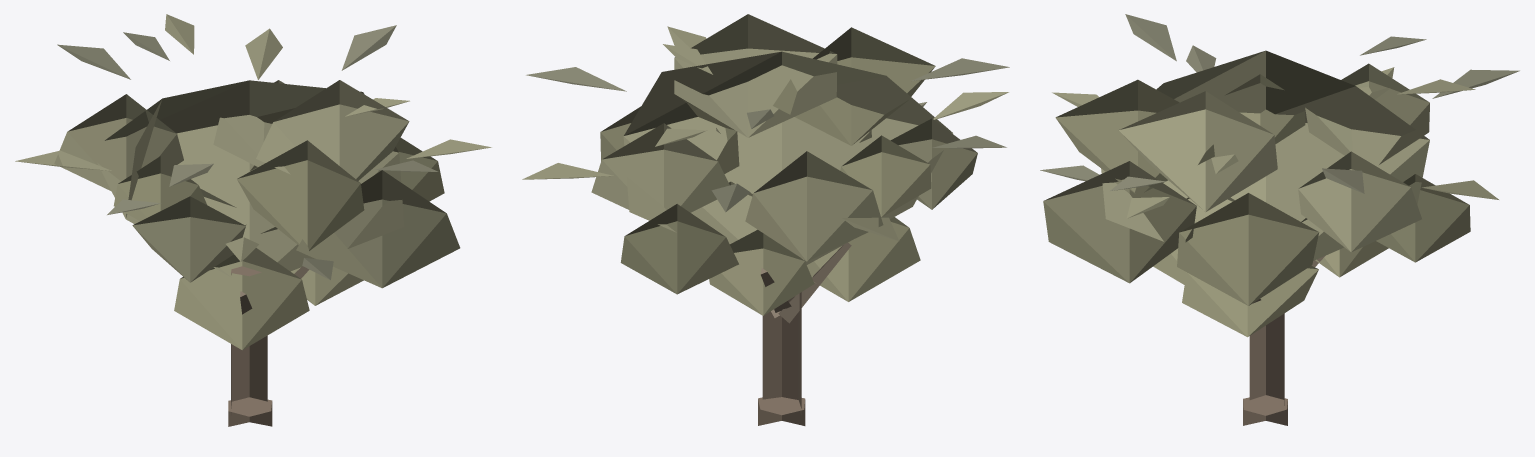
File: shu.mangguo@subadult__winter.glb
3 renders of one model, left to right at view 1: azimuth 30°, elevation 25°; view 2: azimuth 150°, elevation 25°; view 3: azimuth 270°, elevation 25°, orthographic. The views are drawn at different scales.
Visible parts, largest first — view 1: shu.mangguo@subadult__winter; view 2: shu.mangguo@subadult__winter; view 3: shu.mangguo@subadult__winter.
Boxes of the visible parts, x1,y1,x2,y2 form: shu.mangguo@subadult__winter: (15,14,491,426); shu.mangguo@subadult__winter: (522,14,1009,425); shu.mangguo@subadult__winter: (1040,14,1519,425).
Size of the model in its own units: 6.83 by 6.27 by 7.37.
